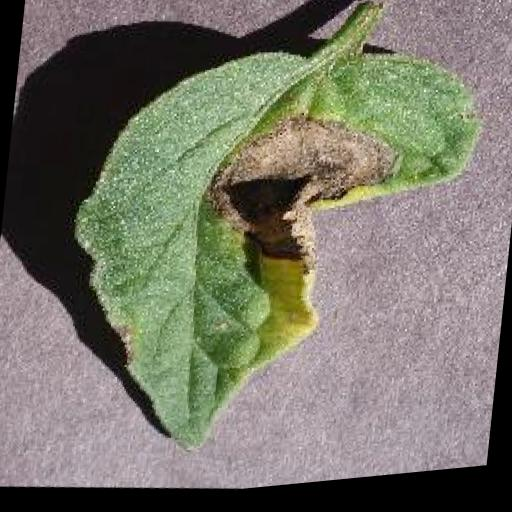Early Blight: (52, 22, 492, 494)
